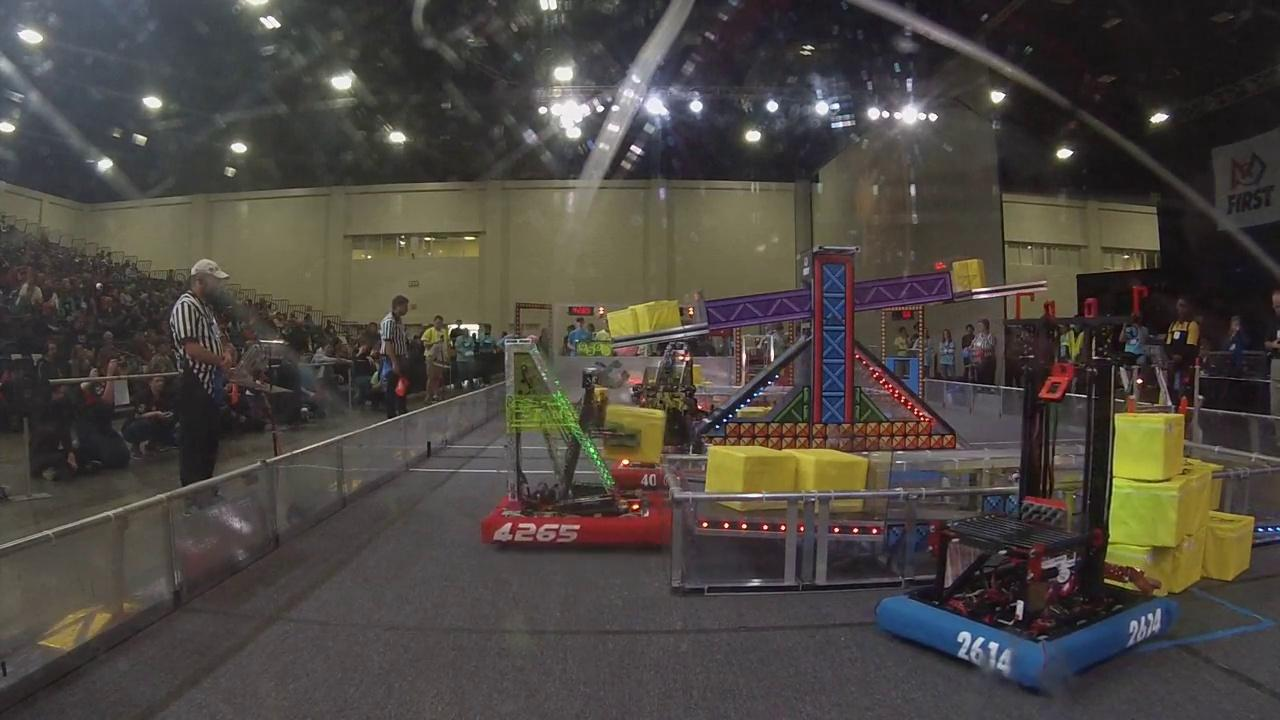robot: (871, 301, 1182, 697), (481, 337, 674, 555), (604, 381, 681, 490)
